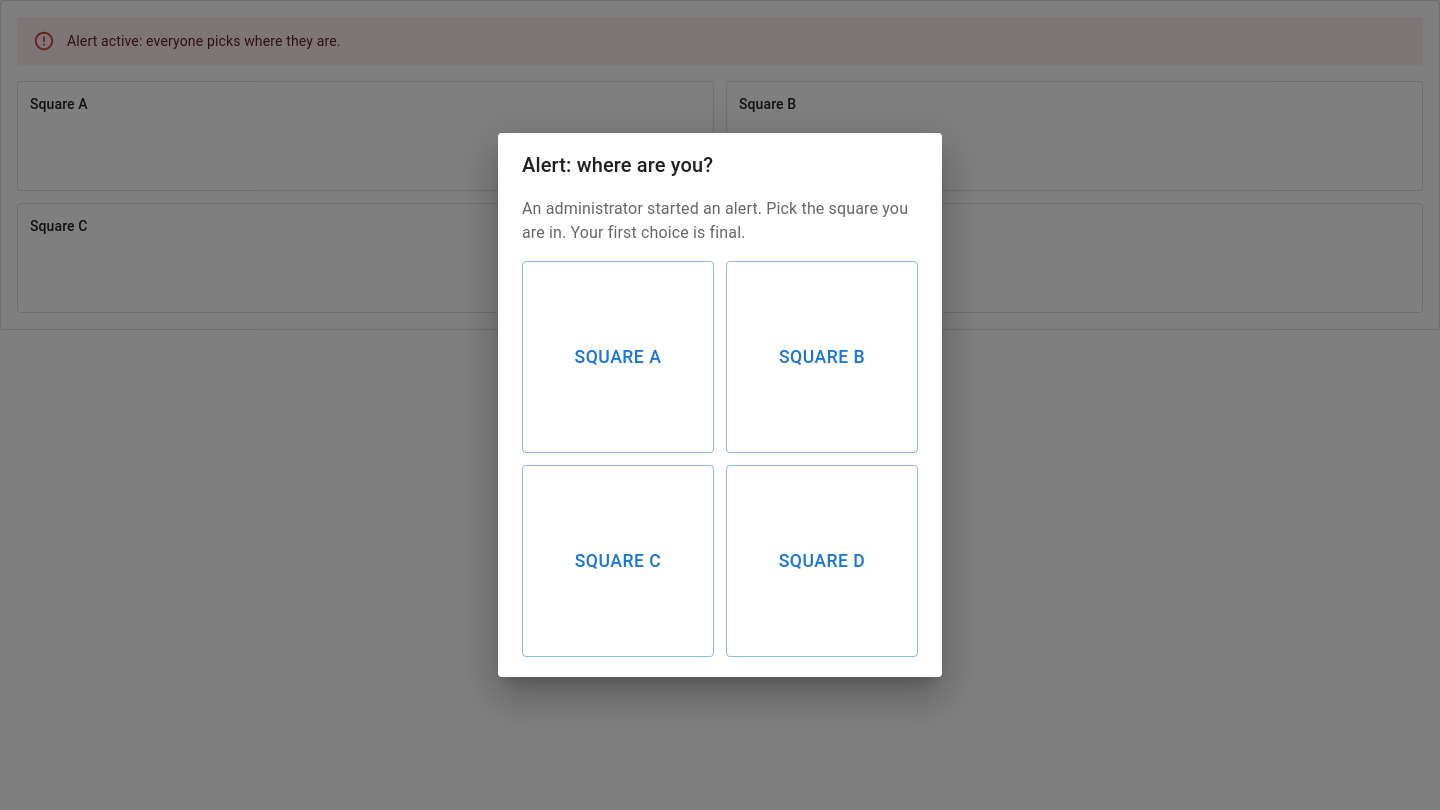
Test: AlertSection › opens the modal by itself when an alert starts live, then shows the name in the board after picking
Expected: the dialog is shown, [498,133,942,677]
Click the button "Square C".
click(618, 561)  # box [522,465,714,657]
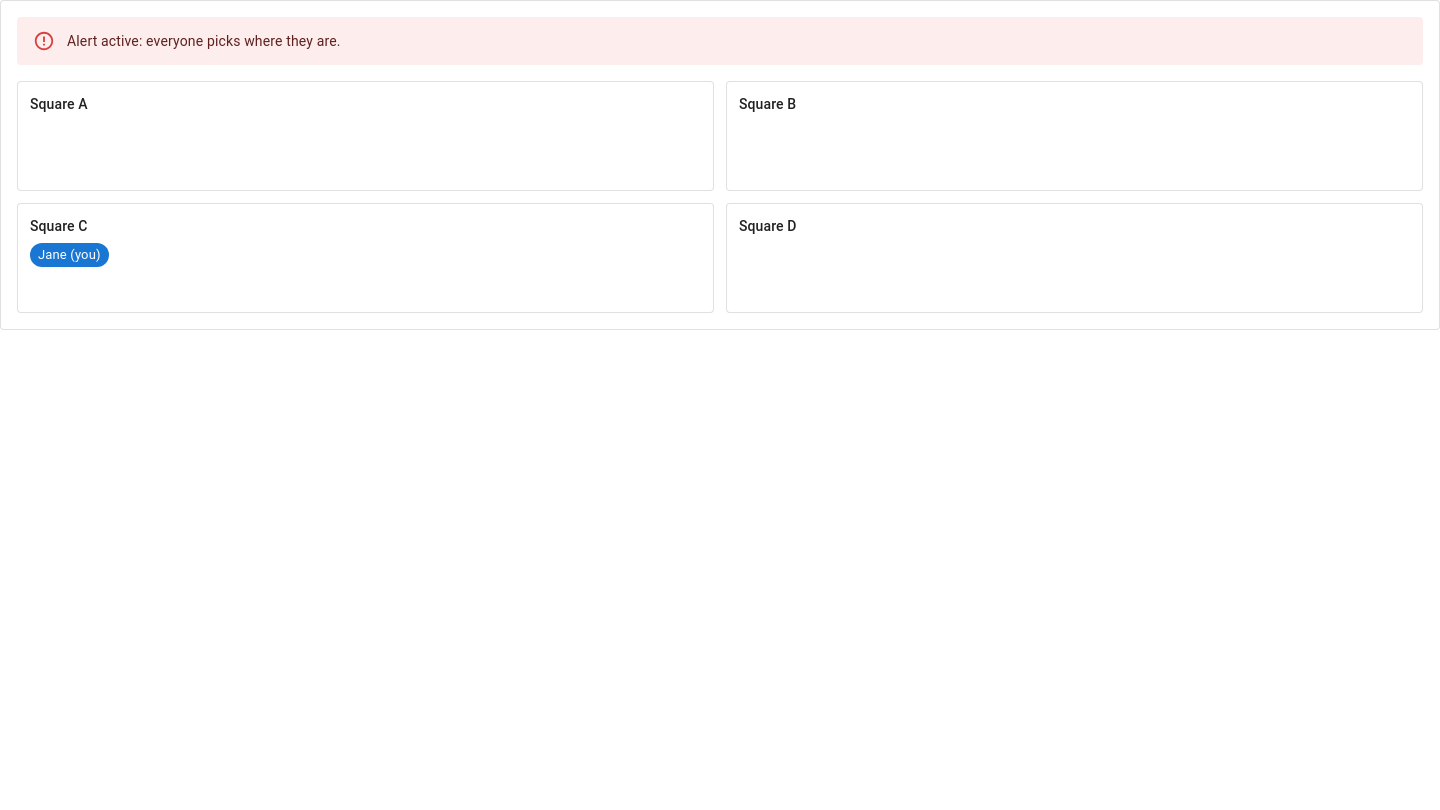
Expected: the dialog is gone
Expected: the element with test id "square-c" shows "Jane (you)", [38,247,101,262]
